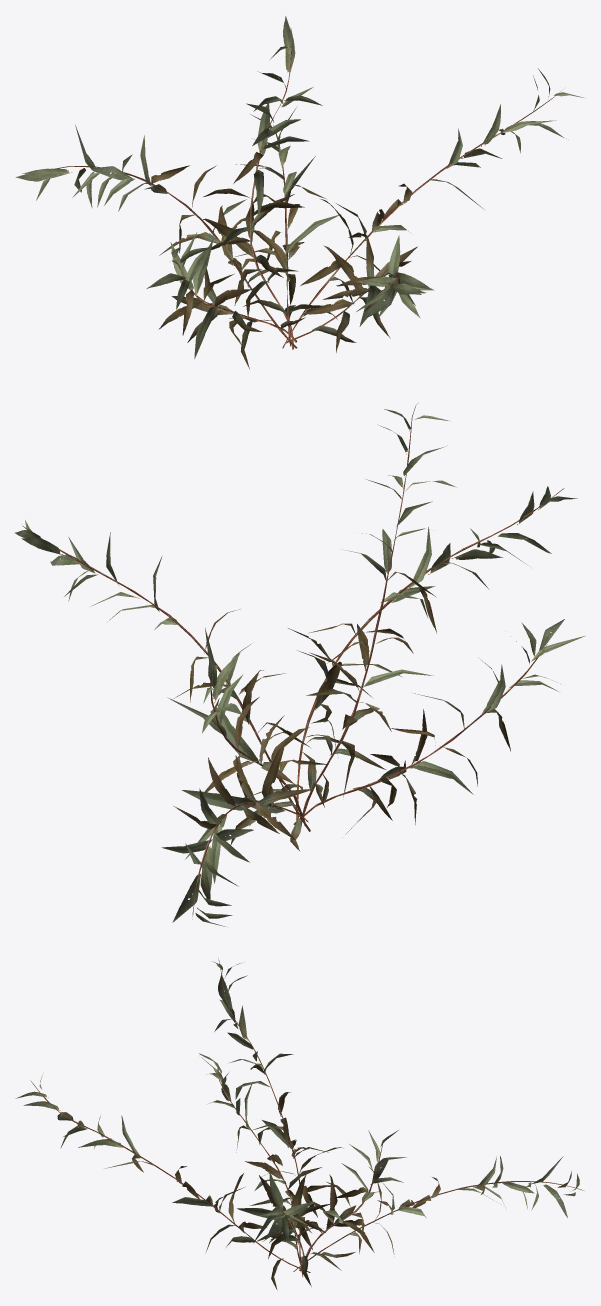
3 views of the same model, one above another, from view 1: azimuth 30°, elevation 25°; view 2: azimuth 150°, elevation 25°; view 3: azimuth 270°, elevation 25° (orthographic). The views are drawn at different scales.
Parts seen in each view (by area): view 1: shrub_02__c_lod1; view 2: shrub_02__c_lod1; view 3: shrub_02__c_lod1.
Boxes of the visible parts, x1,y1,x2,y2 form: shrub_02__c_lod1: (15, 16, 585, 369); shrub_02__c_lod1: (15, 402, 585, 926); shrub_02__c_lod1: (15, 958, 584, 1290).
Bounding box in the file's own units: 1.77 × 1.34 × 2.32.
1 material, 1 textured.
